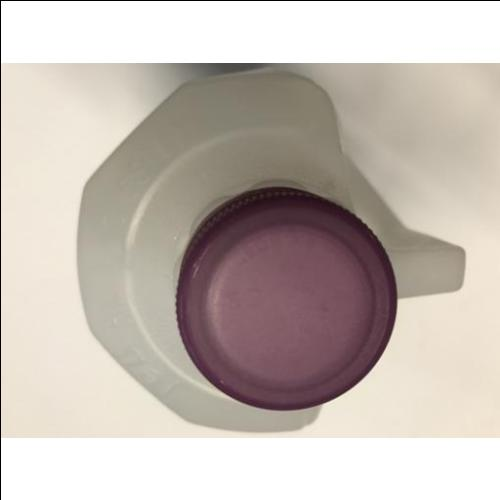plastic: (77, 74, 465, 432)
